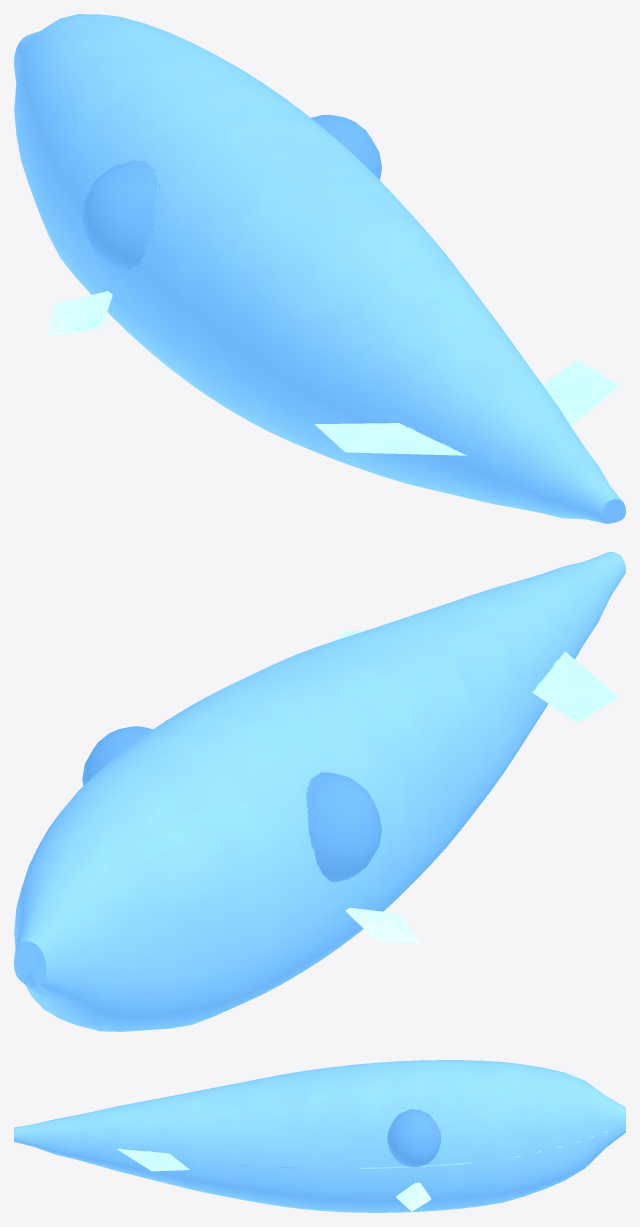
Rendered from macropinna_microstoma.glb.
3 views of the same model, one above another, from view 1: azimuth 30°, elevation 25°; view 2: azimuth 150°, elevation 25°; view 3: azimuth 270°, elevation 25° (orthographic). The views are drawn at different scales.
Visible parts, largest first — view 1: macropinna_microstoma; view 2: macropinna_microstoma; view 3: macropinna_microstoma.
Boxes of the visible parts, left/top/right/bottom form: macropinna_microstoma: left=14, top=14, right=625, bottom=523; macropinna_microstoma: left=14, top=552, right=625, bottom=1031; macropinna_microstoma: left=14, top=1060, right=625, bottom=1212.
Size of the model in its own units: 0.3691 by 0.2469 by 1.
Materials: 2 (2 with a texture image).
